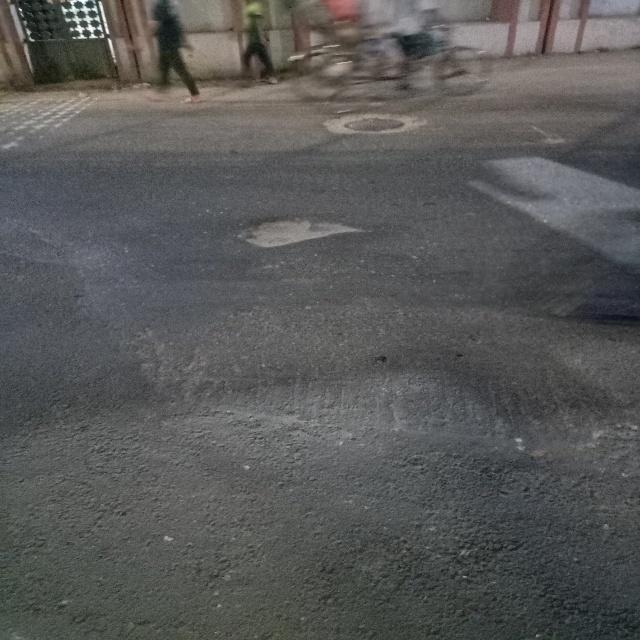Pothole: (236, 212, 354, 276)
